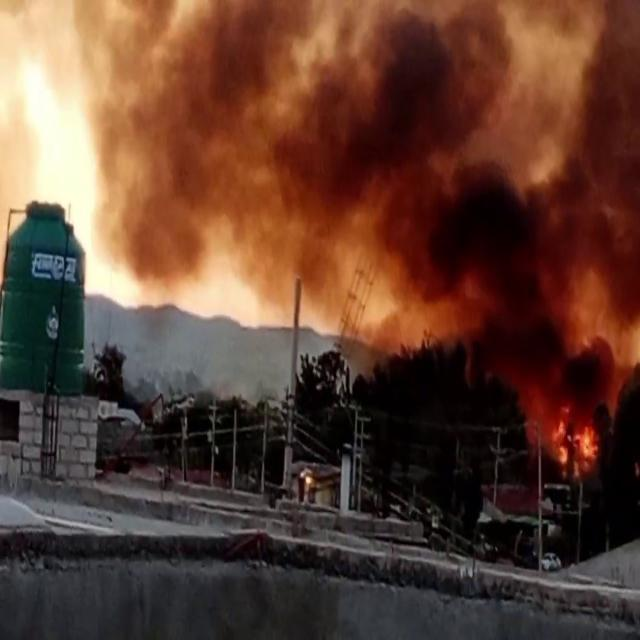Fire: (550, 402, 602, 476)
Smoke: (13, 0, 640, 365)
